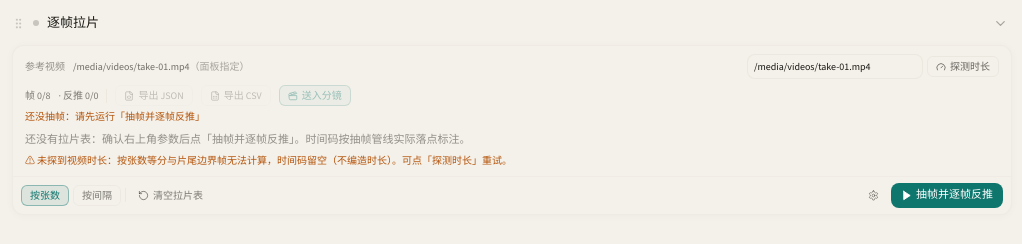
Scenario: FrameStudyWorkspace：时长探测 › 服务端 ok:false 且给出 message：原样带上服务端原因，不吞成固定文案
Step 1. Click the button "探测时长" → (963,66), box left=927, top=56, right=999, bottom=77
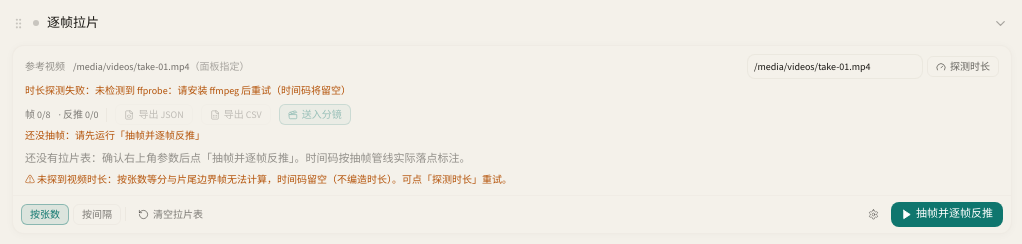
Result: the text "时长探测失败：未检测到 ffprobe：请安装 ffmpeg 后重试（时间码将留空）" is shown at left=25, top=84, right=351, bottom=97
